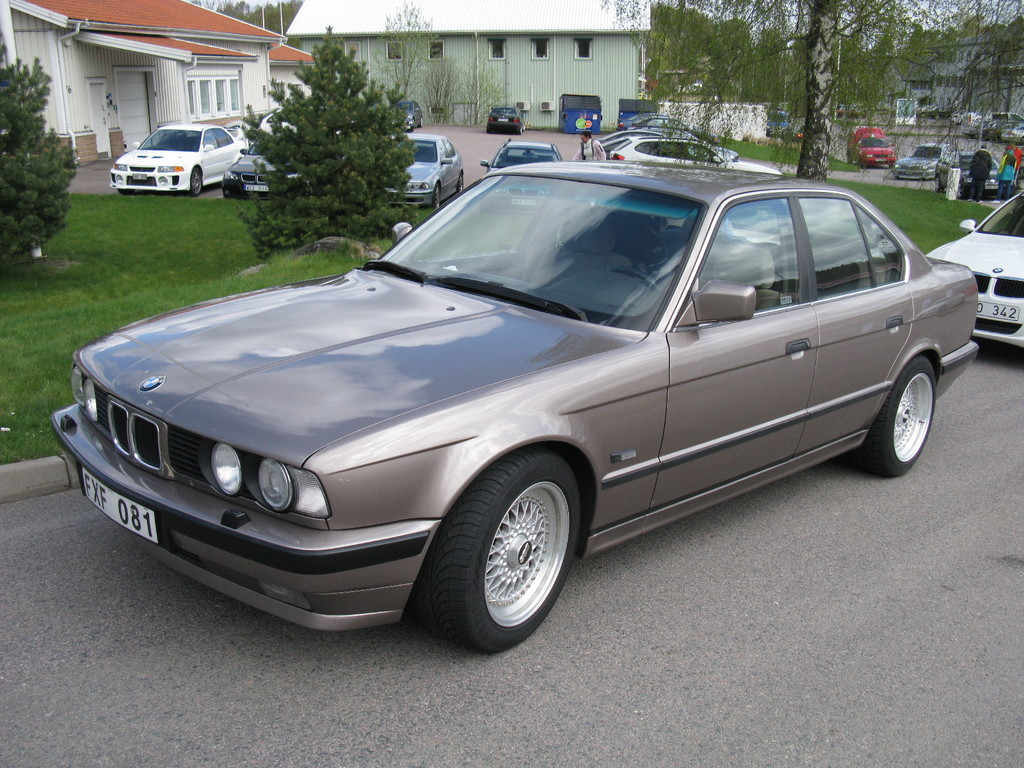Car: (47, 153, 979, 659), (929, 186, 1023, 361), (586, 111, 781, 177), (105, 119, 256, 197), (388, 129, 467, 213), (482, 133, 563, 173), (900, 143, 963, 184)
